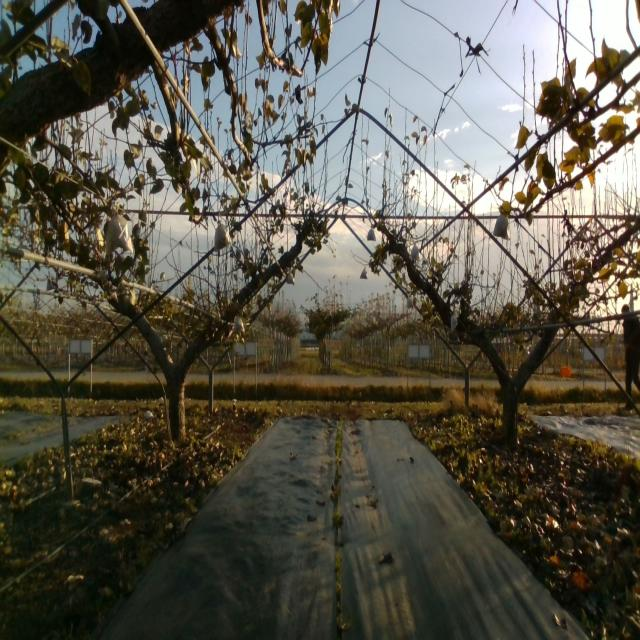pearbags: (103, 208, 136, 254), (213, 220, 232, 249), (492, 210, 509, 242), (234, 315, 245, 334)
